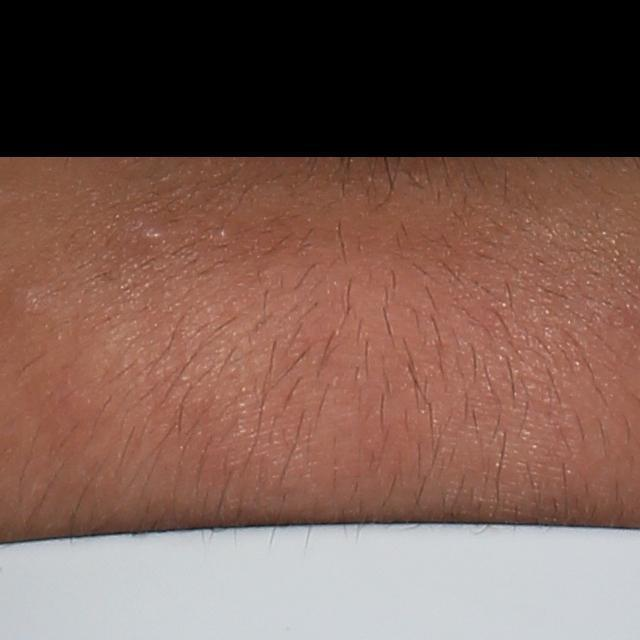comedo: (137, 225, 168, 245)
